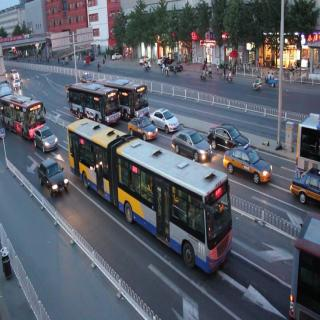BigCar: (62, 117, 237, 276), (68, 85, 121, 127), (0, 96, 47, 140)
Car: (222, 136, 274, 182), (171, 127, 214, 162), (208, 119, 250, 152), (38, 156, 69, 200), (126, 115, 160, 142), (151, 105, 178, 134), (33, 127, 55, 153), (13, 78, 23, 92), (113, 50, 123, 62)
